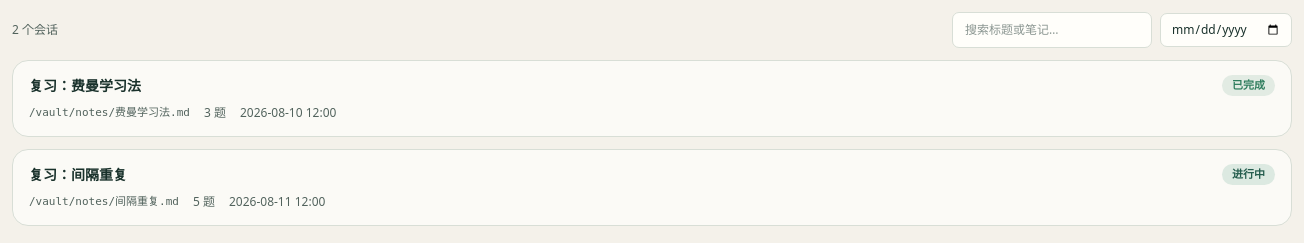
ReviewSessionList › 清除筛选恢复列表
In the field with class "review-session-search": (1052, 30) x1=952 y1=12 x2=1152 y2=48, type "费曼学习法"
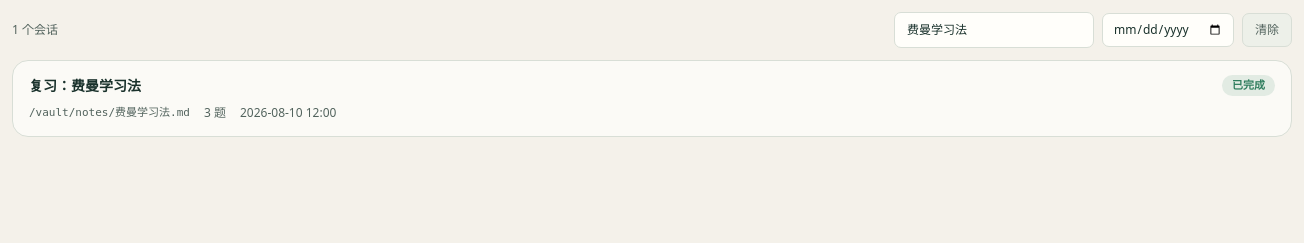
Expected: the number of buttons with class "review-session-item" is 1, x1=12 y1=60 x2=1292 y2=137
Click the button with class "review-session-clear": (1267, 30) x1=1242 y1=13 x2=1292 y2=47
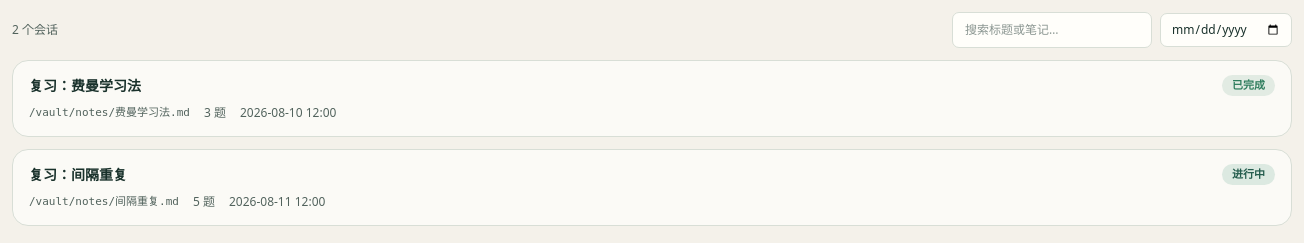
Expected: the number of buttons with class "review-session-item" is 2, x1=12 y1=60 x2=1292 y2=137; x1=12 y1=149 x2=1292 y2=226
